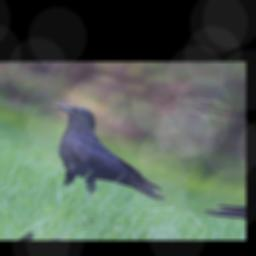Crow: (3, 100, 208, 219)
